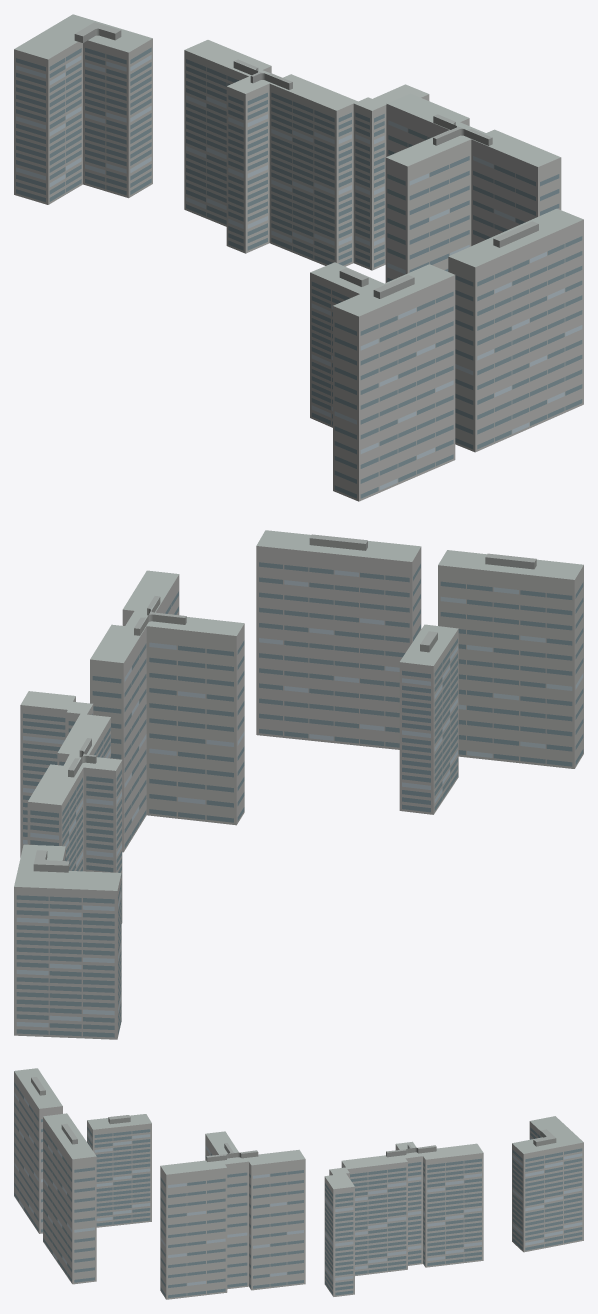
The model's file is apt-a12180407.glb.
3 renders of one model, top to bottom at view 1: azimuth 30°, elevation 25°; view 2: azimuth 150°, elevation 25°; view 3: azimuth 270°, elevation 25°, orthographic. The views are drawn at different scales.
Visible parts, largest first — view 1: apt-a12180407; view 2: apt-a12180407; view 3: apt-a12180407.
Part boxes in pixels (<box>): apt-a12180407: <box>14,14,583,501</box>; apt-a12180407: <box>14,530,583,1039</box>; apt-a12180407: <box>14,1068,583,1299</box>.
Bounding box in the file's own units: 120 × 68 × 271.
